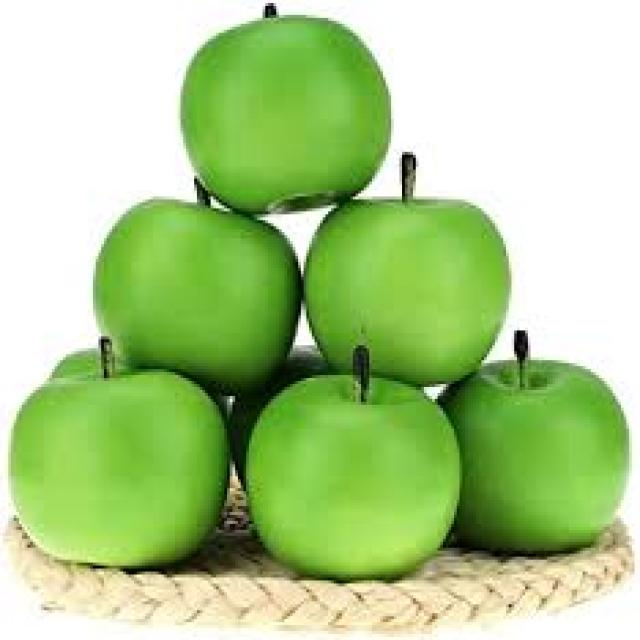50-_ripeness: (10, 351, 233, 581), (245, 365, 456, 589), (85, 191, 307, 400), (423, 343, 635, 561), (173, 25, 406, 221), (295, 204, 531, 392)
